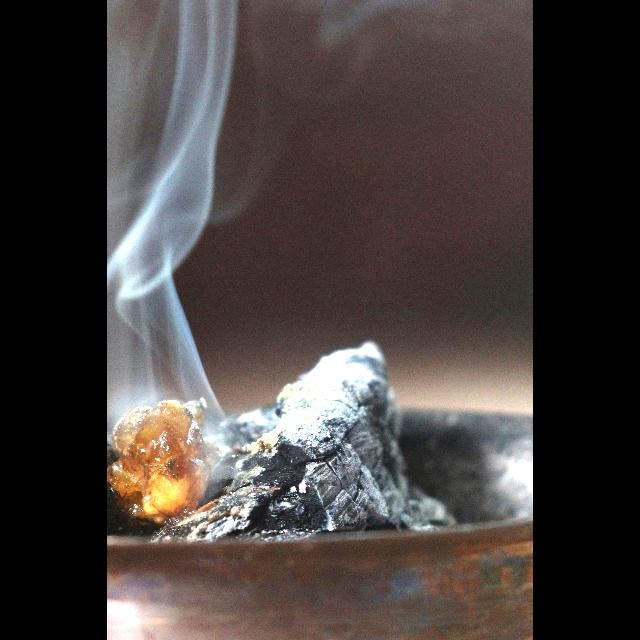smoke: (107, 18, 234, 420)
